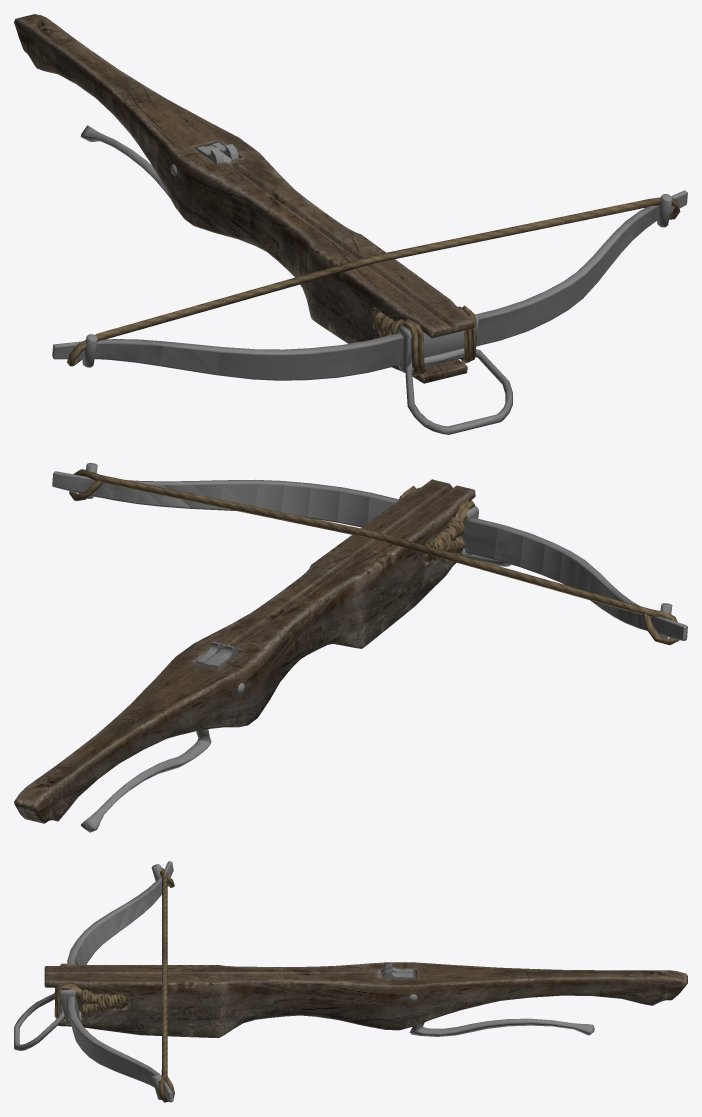
3 renders of one model, top to bottom at view 1: azimuth 30°, elevation 25°; view 2: azimuth 150°, elevation 25°; view 3: azimuth 270°, elevation 25°, orthographic. The views are drawn at different scales.
Parts seen in each view (by area): view 1: WP_A_1501, WP_A_1501.001; view 2: WP_A_1501, WP_A_1501.001; view 3: WP_A_1501, WP_A_1501.001.
Boxes of the visible parts, x1,y1,x2,y2 form: WP_A_1501: (14, 14, 680, 383); WP_A_1501.001: (52, 125, 687, 434); WP_A_1501: (14, 463, 679, 823); WP_A_1501.001: (52, 471, 687, 832); WP_A_1501: (44, 864, 687, 1102); WP_A_1501.001: (14, 861, 594, 1102).
Size of the model in its own units: 71.74 by 10.87 by 88.33.
2 materials, 2 textured.
